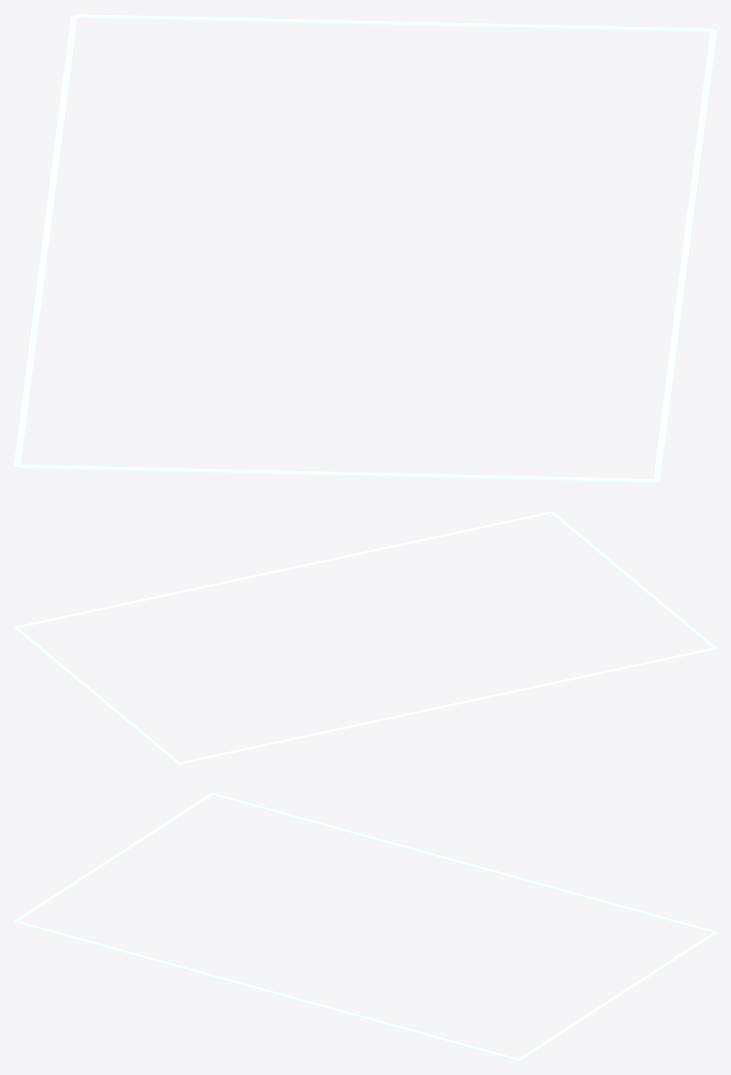
Rendered from SM_Beach_DuelCourt_NoCol.fbx.
3 views of the same model, one above another, from view 1: azimuth 30°, elevation 25°; view 2: azimuth 150°, elevation 25°; view 3: azimuth 270°, elevation 25° (orthographic). The views are drawn at different scales.
Parts seen in each view (by area): view 1: SM_Beach_DuelCourt_NoCol; view 2: SM_Beach_DuelCourt_NoCol; view 3: SM_Beach_DuelCourt_NoCol.
Boxes of the visible parts, bbox=[...] form: SM_Beach_DuelCourt_NoCol: bbox=[14, 14, 716, 482]; SM_Beach_DuelCourt_NoCol: bbox=[14, 511, 716, 764]; SM_Beach_DuelCourt_NoCol: bbox=[14, 793, 716, 1060].
Size of the model in its own units: 21.07 by 0.02 by 23.41.
